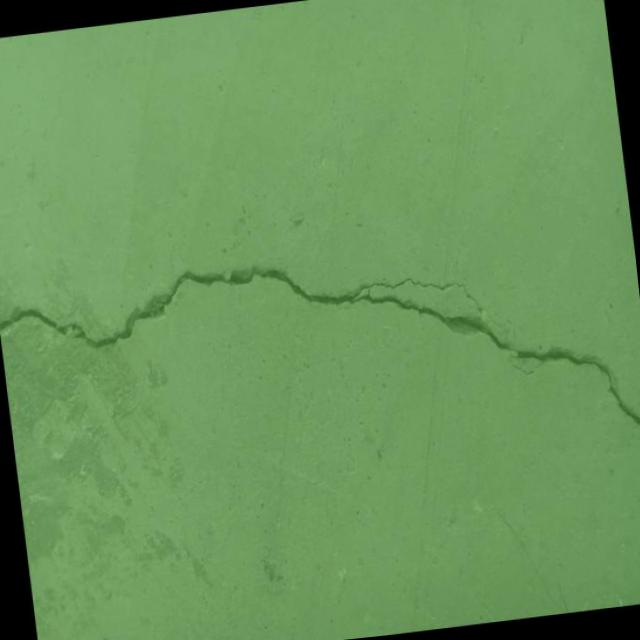crack: (0, 214, 640, 504), (159, 430, 216, 640)
